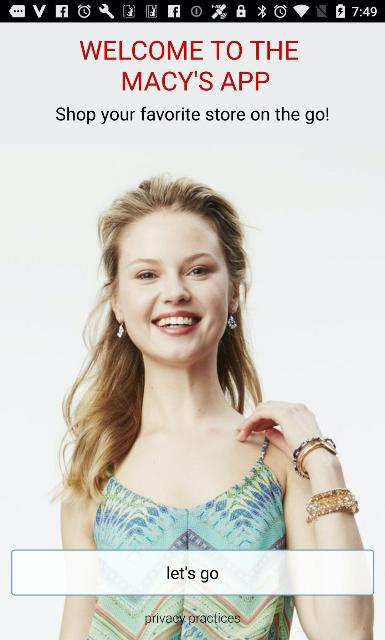BackgroundImage: (0, 22, 384, 640)
Text: (80, 40, 298, 90), (56, 106, 328, 124), (145, 613, 240, 625), (168, 567, 218, 583)
TextButton: (11, 550, 374, 596)
UpperTaskBar: (0, 0, 384, 22)
